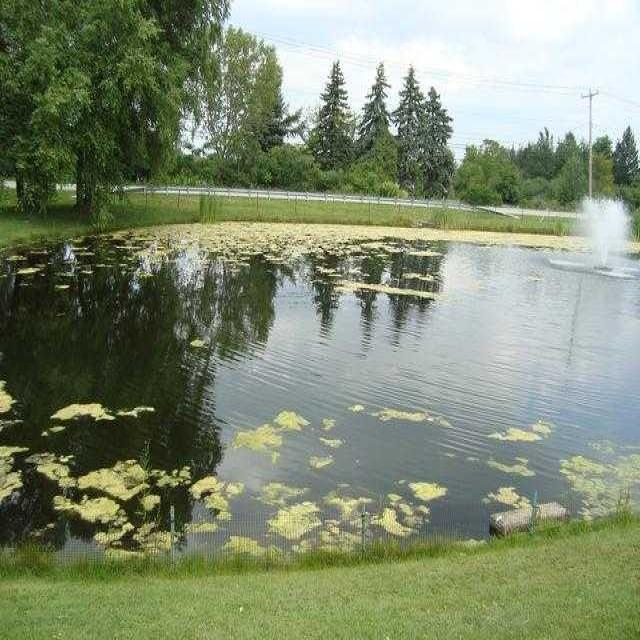Ponds: (5, 213, 636, 577)
